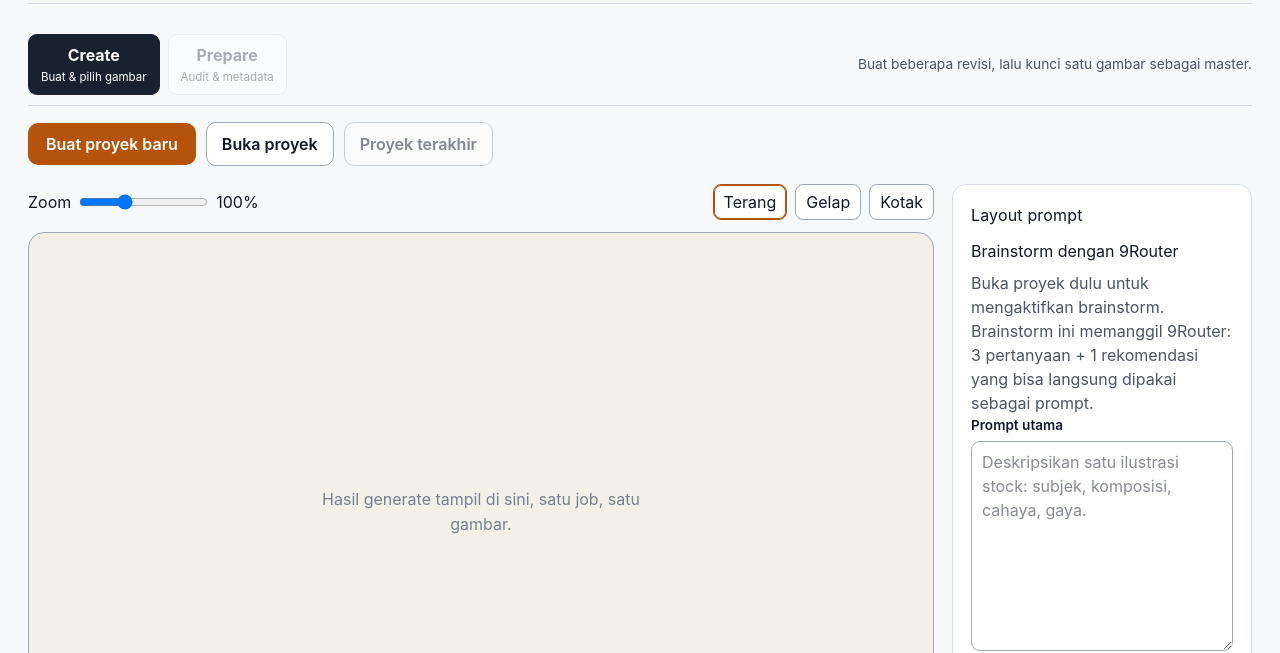
it: Beranda — meja kerja studio › keeps the approval button honest when local evidence cannot be written
This screenshot has width=1280, height=653.
Click the button "Buka proyek": (270, 144) [206,122,334,166]
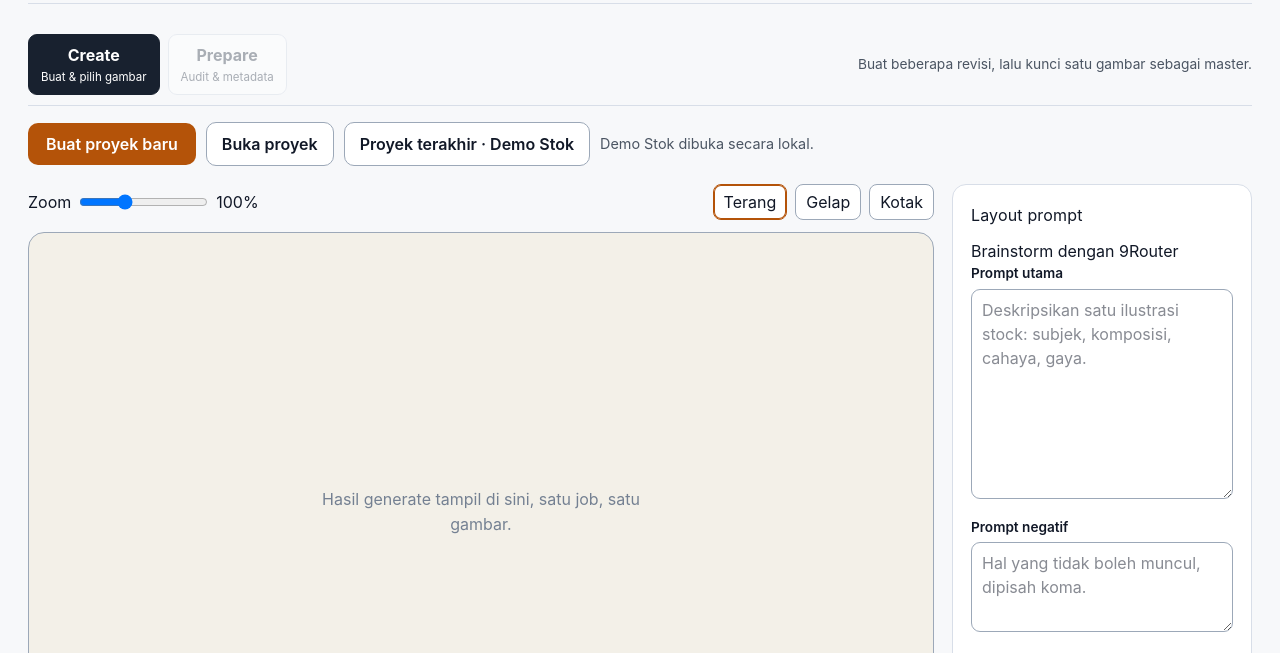
Expected: the element named "Toolbar proyek" shows "dibuka secara lokal", [600,136,814,152]
Replace the text in the text box labelled "Prompt utama" with "Prompt jujur": (1102, 394) [971,289,1233,499]
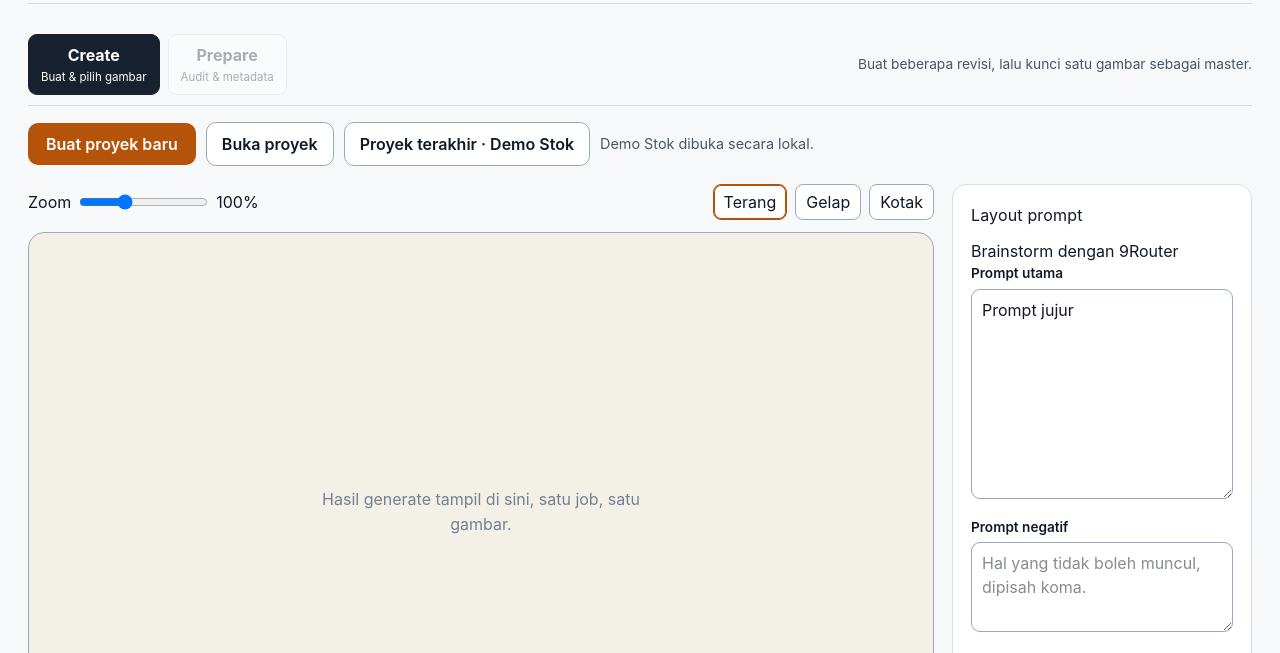
In the text box labelled "Prompt negatif": (1102, 587) [971,542,1233,632], type "nol"
(page scrolled)
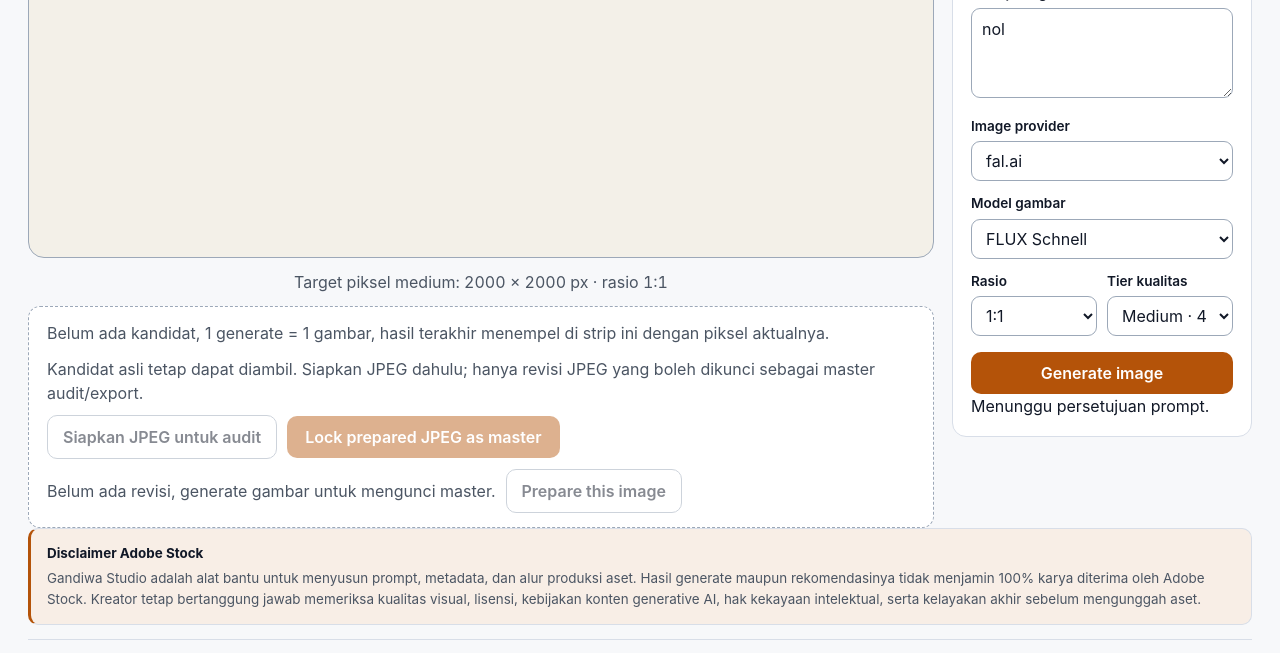
Click the button with aria-label "Setujui prompt": (1102, 373) [971,352,1233,394]
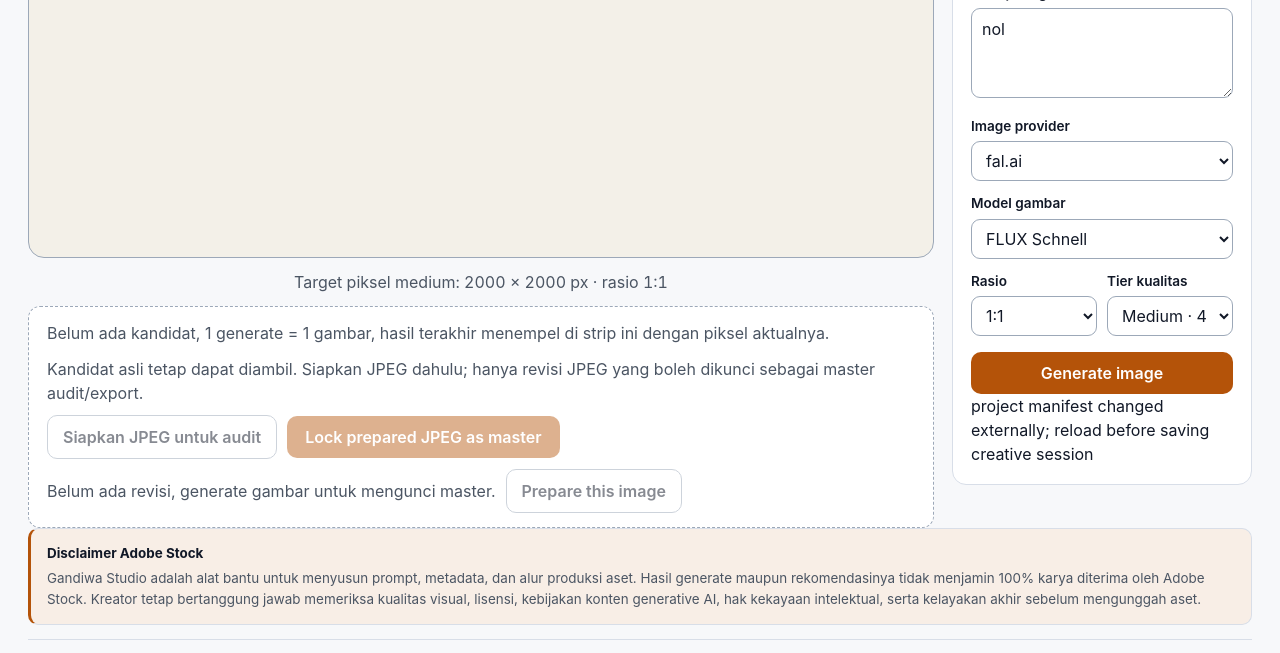
Expected: the text named "Status pengiriman generasi" does not show "terkirim", [971,394,1233,466]
Expected: the text named "Status pengiriman generasi" shows "project manifest changed externally", [971,396,1209,464]
